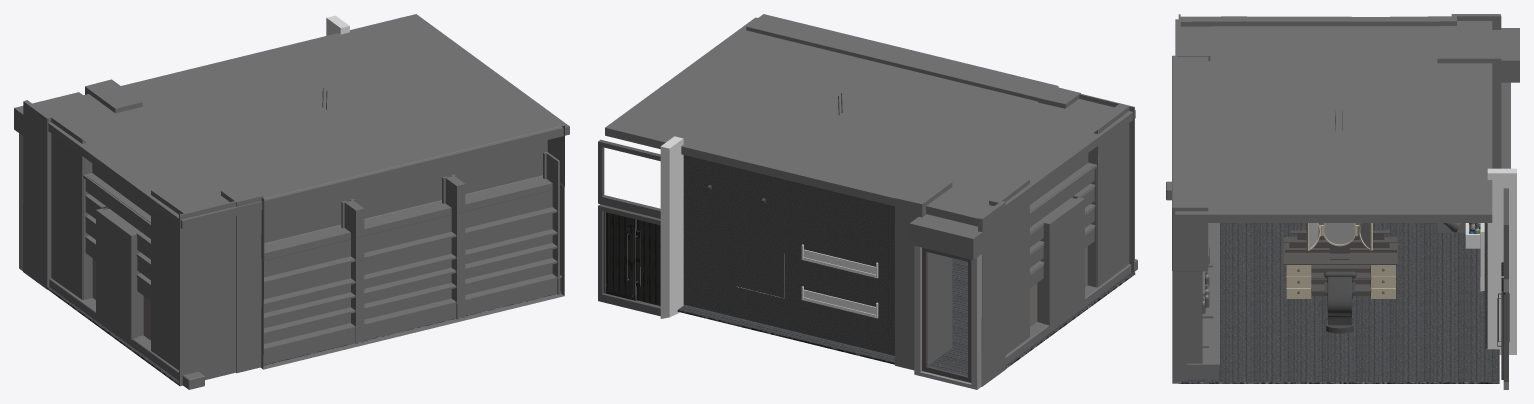
The model's file is Beauty_Store_FBX_01.fbx.
3 renders of one model, left to right at view 1: azimuth 30°, elevation 25°; view 2: azimuth 150°, elevation 25°; view 3: azimuth 270°, elevation 25°, orthographic. The views are drawn at different scales.
Visible parts, largest first — view 1: pCube669, pCube663, Vitrina 6, pCube668, pCube665, pCube667, pCube659, pCube666, pCube638, pCube259, pCube664; view 2: pCube669, Rectangle13, Vitrina 6, pCube132, pCube666, pCube663, pCube638, pCube665, pCube259, pCube664, Door_447, Door_448 (+6 smaller); view 3: pCube669, pCube638, pCube663, pCube626, pCube132, Vitrina 6, pCube666, polySurface455, pCube664, pCube259, pCylinder55, pCube667 (+5 smaller).
Part boxes in pixels (left/top/right/bottom): pCube669: left=37, top=14, right=569, bottom=228; pCube663: left=250, top=112, right=564, bottom=369; Vitrina 6: left=49, top=113, right=193, bottom=370; pCube668: left=179, top=200, right=237, bottom=386; pCube665: left=23, top=100, right=51, bottom=289; pCube667: left=221, top=184, right=263, bottom=373; pCube659: left=49, top=278, right=204, bottom=389; pCube666: left=85, top=79, right=142, bottom=113; pCube638: left=47, top=287, right=561, bottom=385; pCube259: left=19, top=133, right=23, bottom=270; pCube664: left=14, top=92, right=82, bottom=135; pCube669: left=605, top=17, right=1135, bottom=226; Rectangle13: left=683, top=155, right=894, bottom=355; Vitrina 6: left=989, top=104, right=1129, bottom=354; pCube132: left=598, top=136, right=683, bottom=318; pCube666: left=895, top=176, right=952, bottom=370; pCube663: left=746, top=14, right=1058, bottom=101; pCube638: left=640, top=258, right=1135, bottom=375; pCube665: left=978, top=201, right=1005, bottom=386; pCube259: left=914, top=246, right=981, bottom=389; pCube664: left=909, top=214, right=988, bottom=259; Door_447: left=603, top=211, right=633, bottom=299; Door_448: left=633, top=219, right=660, bottom=306; pCube669: left=1175, top=19, right=1492, bottom=222; pCube638: left=1178, top=223, right=1499, bottom=383; pCube663: left=1172, top=55, right=1219, bottom=383; pCube626: left=1283, top=230, right=1397, bottom=298; pCube132: left=1487, top=168, right=1516, bottom=389; Vitrina 6: left=1180, top=16, right=1456, bottom=26; pCube666: left=1437, top=45, right=1501, bottom=232; polySurface455: left=1324, top=271, right=1356, bottom=333; pCube664: left=1492, top=28, right=1519, bottom=82; pCube259: left=1501, top=82, right=1510, bottom=168; pCylinder55: left=1324, top=223, right=1354, bottom=244; pCube667: left=1177, top=42, right=1210, bottom=60.
Size of the model in its own units: 201 by 94.9 by 154.
